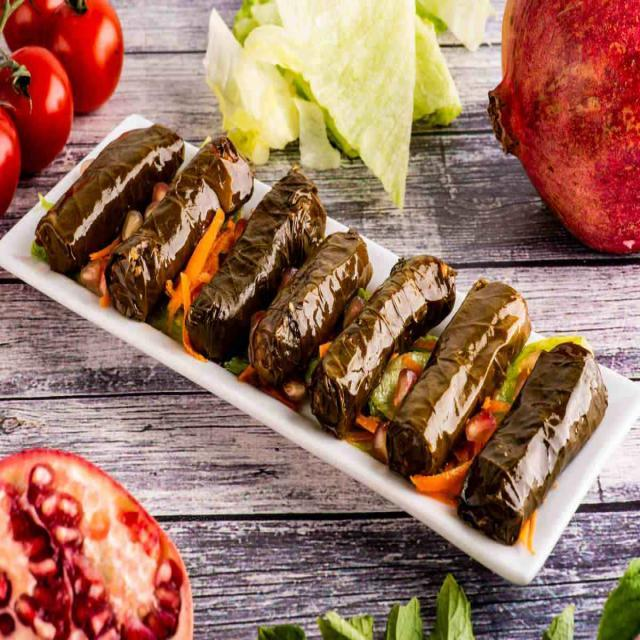wara enab: (49, 123, 582, 519)
